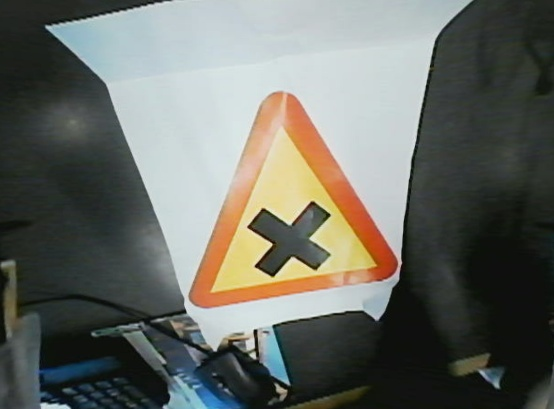junction: (178, 84, 410, 301)
